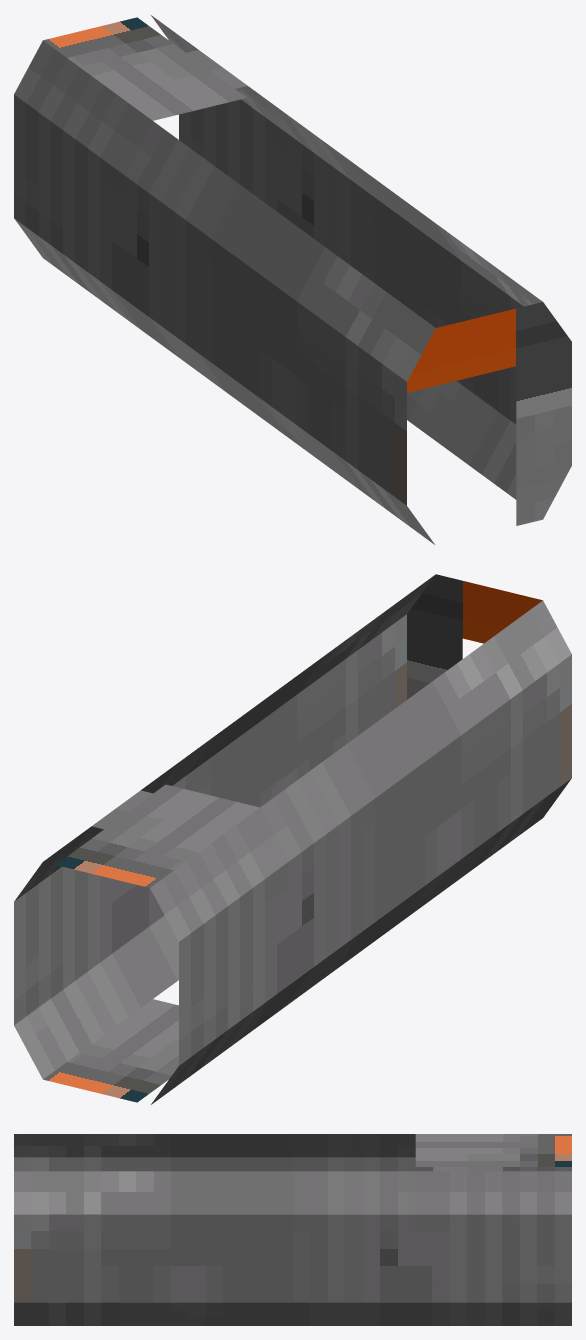
File: LOD0-UVFlip.obj
The picture shows the model from 3 angles, top to bottom: view 1: azimuth 30°, elevation 25°; view 2: azimuth 150°, elevation 25°; view 3: azimuth 270°, elevation 25°; orthographic projection. The views are drawn at different scales.
Visible parts, largest first — view 1: TurretUV; view 2: TurretUV; view 3: TurretUV.
Boxes of the visible parts, x1,y1,x2,y2 form: TurretUV: (14, 15, 571, 544); TurretUV: (14, 574, 571, 1104); TurretUV: (14, 1134, 571, 1325).
Size of the model in its own units: 0.8777 by 1.11 by 3.62.
